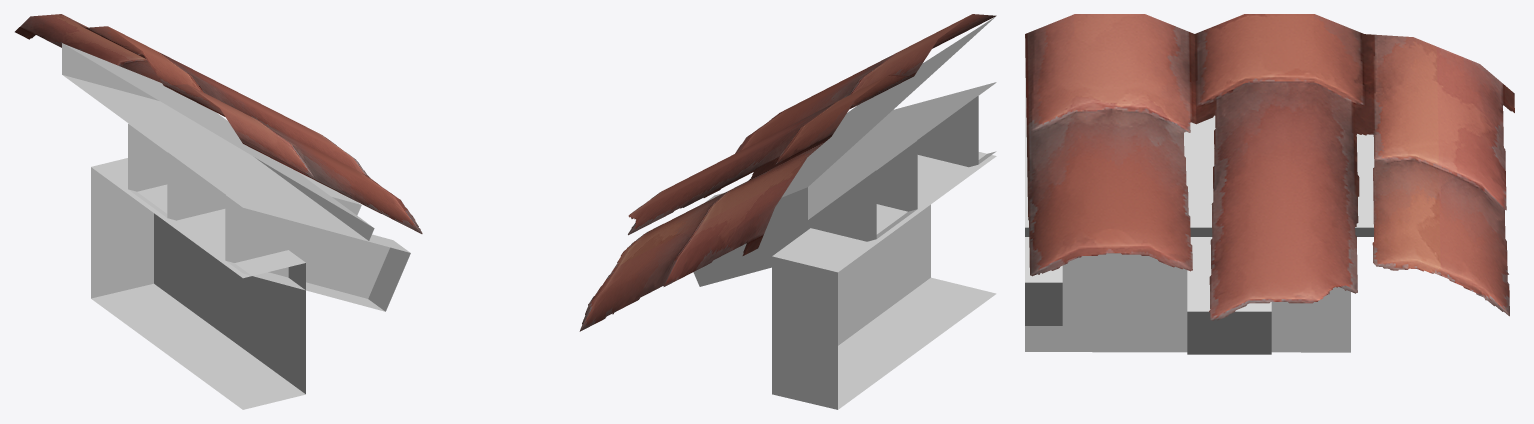
The model's file is WallKit_Verge_End_Left_LOD0.fbx.
3 renders of one model, left to right at view 1: azimuth 30°, elevation 25°; view 2: azimuth 150°, elevation 25°; view 3: azimuth 270°, elevation 25°, orthographic. The views are drawn at different scales.
Visible parts, largest first — view 1: WallKit_Verge_End_Left_LOD0; view 2: WallKit_Verge_End_Left_LOD0; view 3: WallKit_Verge_End_Left_LOD0.
Boxes of the visible parts, x1,y1,x2,y2 form: WallKit_Verge_End_Left_LOD0: (15, 14, 422, 409); WallKit_Verge_End_Left_LOD0: (579, 14, 996, 409); WallKit_Verge_End_Left_LOD0: (1025, 14, 1514, 354).
Size of the model in its own units: 78.07 by 89.42 by 131.
